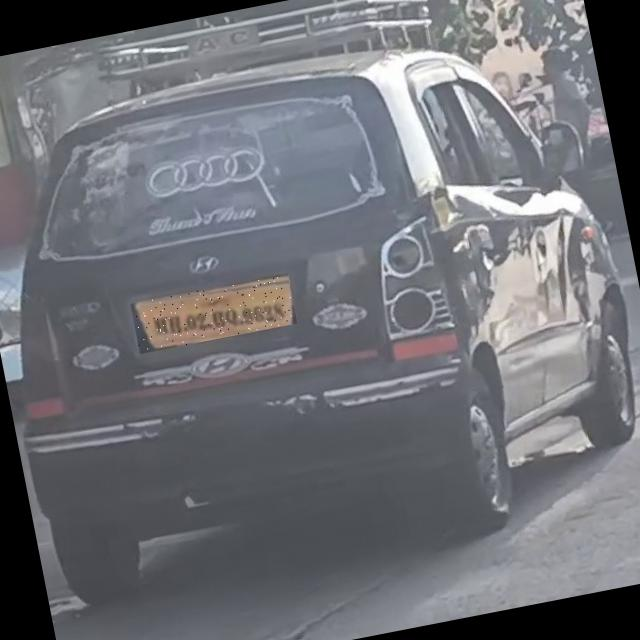Plate: (132, 274, 299, 355)
